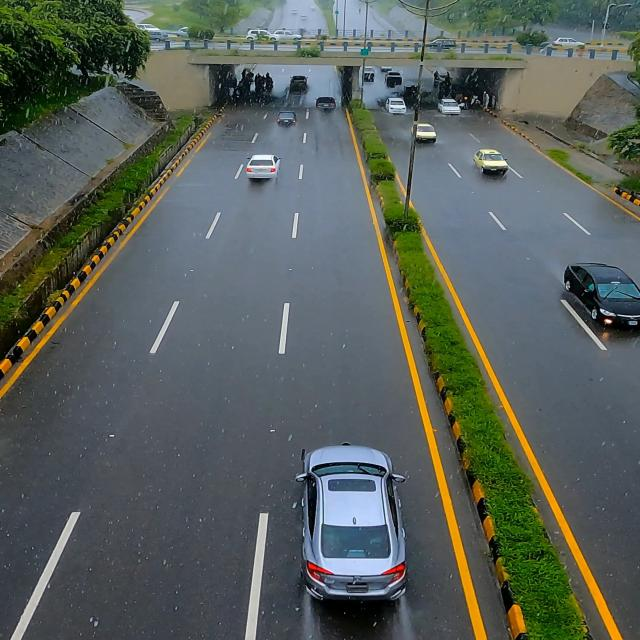Car: (293, 441, 424, 613), (561, 260, 640, 335), (246, 150, 287, 185), (471, 146, 513, 180)
